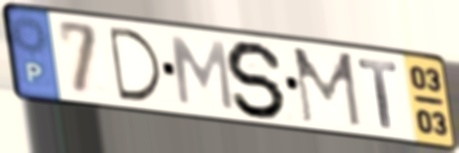7: (56, 17, 106, 97)
D: (105, 24, 166, 105)
M: (289, 45, 365, 131), (168, 33, 237, 114)
S: (223, 38, 290, 121)
T: (355, 57, 400, 132)
